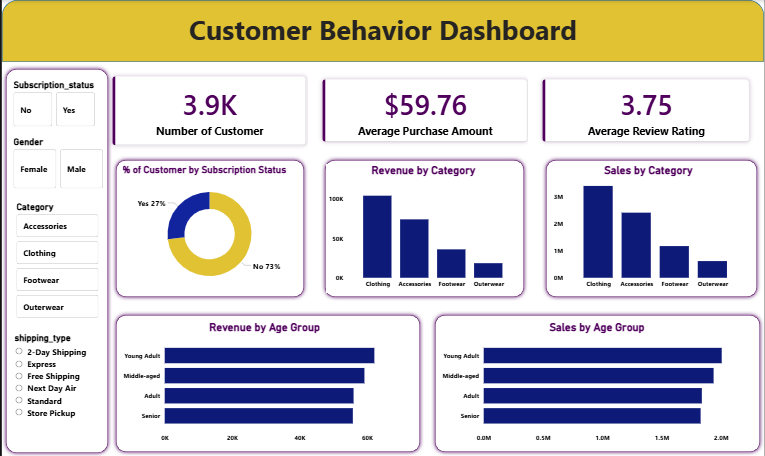

The page's visual inventory and layout, read from the dashboard file:
{"tool":"powerbi","page":{"name":"Page 1","canvas":[1500,900],"ordinal":0},"visuals":[{"type":"cardVisual","fields":{"Data":["public customer.Number of Customer"]},"box":[189,122,439,192.9],"z":0},{"type":"cardVisual","fields":{"Data":["public customer.Average Purchase Amount"]},"box":[602.4,128,460.6,179.1],"z":1000},{"type":"cardVisual","fields":{"Data":["public customer.Average Review Rating"]},"box":[1035.4,128,464.6,179.1],"z":2000},{"type":"shape","box":[0,0,1500,122],"z":3000},{"type":"textbox","box":[0,15.7,1500,106.3],"z":4000},{"type":"shape","box":[216.5,307.1,385.8,285.4],"z":5000},{"type":"donutChart","title":"% of Customer by Subscription Status","fields":{"Category":["public customer.subscription_status"],"Y":["CountNonNull(public customer.customer_id)"]},"box":[232.3,322.8,352.4,253.9],"z":6000},{"type":"shape","box":[628,307.1,407.5,285.4],"z":7000},{"type":"shape","box":[1063,307.1,431.1,285.4],"z":8000},{"type":"clusteredColumnChart","title":"Revenue by Category","fields":{"Y":["Sum(public customer.purchase_amount)"],"Category":["public customer.category"]},"box":[637.8,322.8,383.9,253.9],"z":9000},{"type":"clusteredColumnChart","title":"Sales by Category","fields":{"Category":["public customer.category"],"Y":["Sum(public customer.customer_id)"]},"box":[1080.7,322.8,383.9,253.9],"z":10000},{"type":"shape","box":[0,128,216.5,771.7],"z":11000},{"type":"advancedSlicerVisual","fields":{"Values":["public customer.subscription_status"]},"box":[17.7,155.5,171.3,98.4],"z":12000},{"type":"advancedSlicerVisual","fields":{"Values":["public customer.gender"]},"box":[17.7,267.7,187,108.3],"z":13000},{"type":"advancedSlicerVisual","fields":{"Values":["public customer.category"]},"box":[23.6,395.7,171.3,236.2],"z":13001},{"type":"listSlicer","fields":{"Values":["public customer.shipping_type"]},"box":[19.7,653.5,169.3,226.4],"z":13002},{"type":"shape","box":[844.5,612.2,655.5,285.4],"z":13005},{"type":"clusteredBarChart","title":"Sales by Age Group","fields":{"Category":["public customer.age_group"],"Y":["Sum(public customer.customer_id)"]},"box":[860.2,631.9,622,248],"z":13006},{"type":"shape","box":[216.5,612.2,614.2,285.4],"z":13007},{"type":"clusteredBarChart","title":"Revenue by Age Group","fields":{"Category":["public customer.age_group"],"Y":["Sum(public customer.purchase_amount)"]},"box":[232.3,631.9,568.9,248],"z":13008}]}

Visuals, with their boxes in screenshot pixels (x1, y1, x2, y2), scaled from the page's 1500x900 canvas onto the 765x456 screenshot:
cardVisual - public customer.Number of Customer: left=96, top=62, right=320, bottom=160
cardVisual - public customer.Average Purchase Amount: left=307, top=65, right=542, bottom=156
cardVisual - public customer.Average Review Rating: left=528, top=65, right=764, bottom=156
shape: left=0, top=0, right=764, bottom=62
textbox: left=0, top=8, right=764, bottom=62
shape: left=110, top=156, right=307, bottom=300
"% of Customer by Subscription Status" donutChart: left=118, top=164, right=298, bottom=292
shape: left=320, top=156, right=528, bottom=300
shape: left=542, top=156, right=762, bottom=300
"Revenue by Category" clusteredColumnChart: left=325, top=164, right=521, bottom=292
"Sales by Category" clusteredColumnChart: left=551, top=164, right=747, bottom=292
shape: left=0, top=65, right=110, bottom=455
advancedSlicerVisual - public customer.subscription_status: left=9, top=79, right=96, bottom=129
advancedSlicerVisual - public customer.gender: left=9, top=136, right=104, bottom=191
advancedSlicerVisual - public customer.category: left=12, top=200, right=99, bottom=320
listSlicer - public customer.shipping_type: left=10, top=331, right=96, bottom=446
shape: left=431, top=310, right=764, bottom=455
"Sales by Age Group" clusteredBarChart: left=439, top=320, right=756, bottom=446
shape: left=110, top=310, right=424, bottom=455
"Revenue by Age Group" clusteredBarChart: left=118, top=320, right=409, bottom=446
